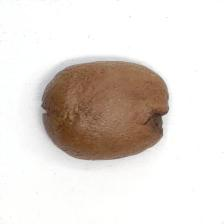NG: (140, 102, 169, 141)
